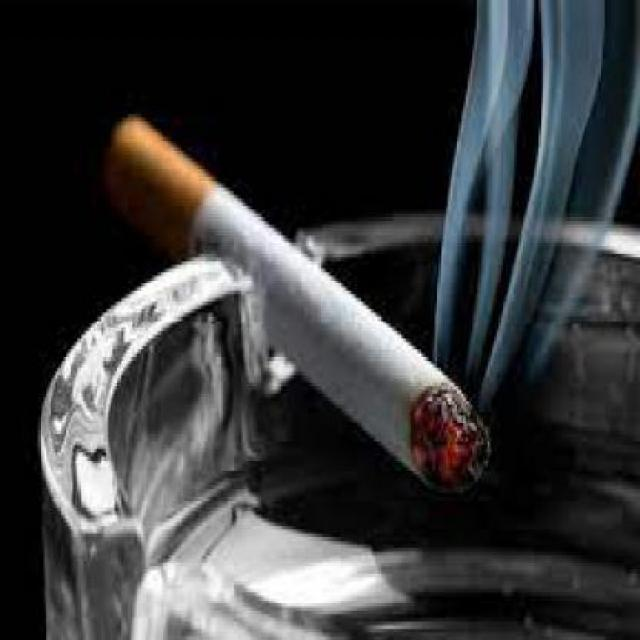smoke: (101, 100, 494, 505)
